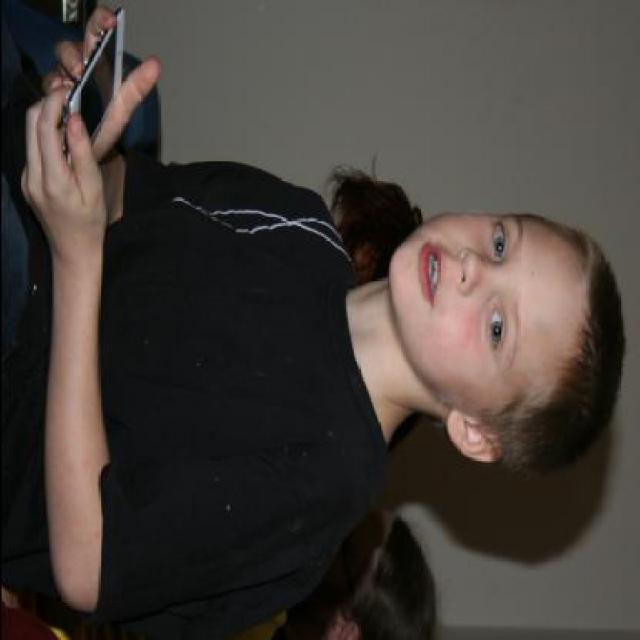phone: (64, 6, 124, 180)
